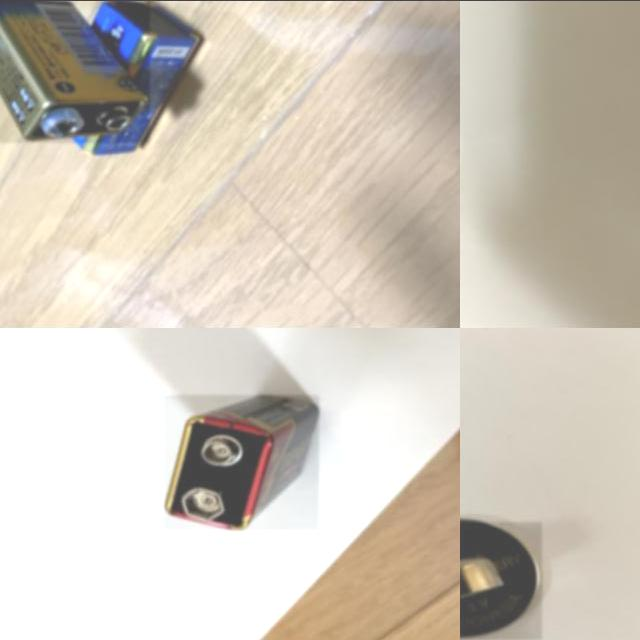9V: (66, 0, 203, 155), (164, 393, 320, 529), (0, 0, 149, 142)
